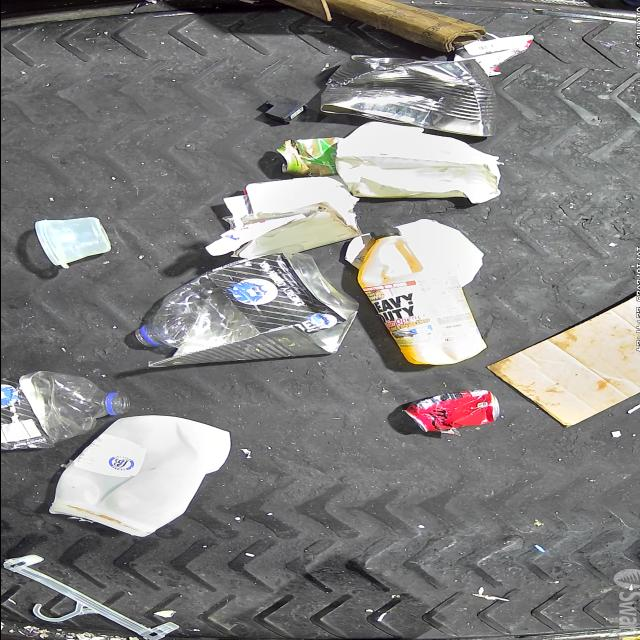can: (320, 54, 496, 139), (402, 388, 499, 432), (276, 138, 340, 180)
milk_jug: (48, 415, 228, 538)
non_white_jug: (356, 228, 486, 366)
plastic_bottle: (138, 248, 362, 348), (0, 370, 130, 446)
